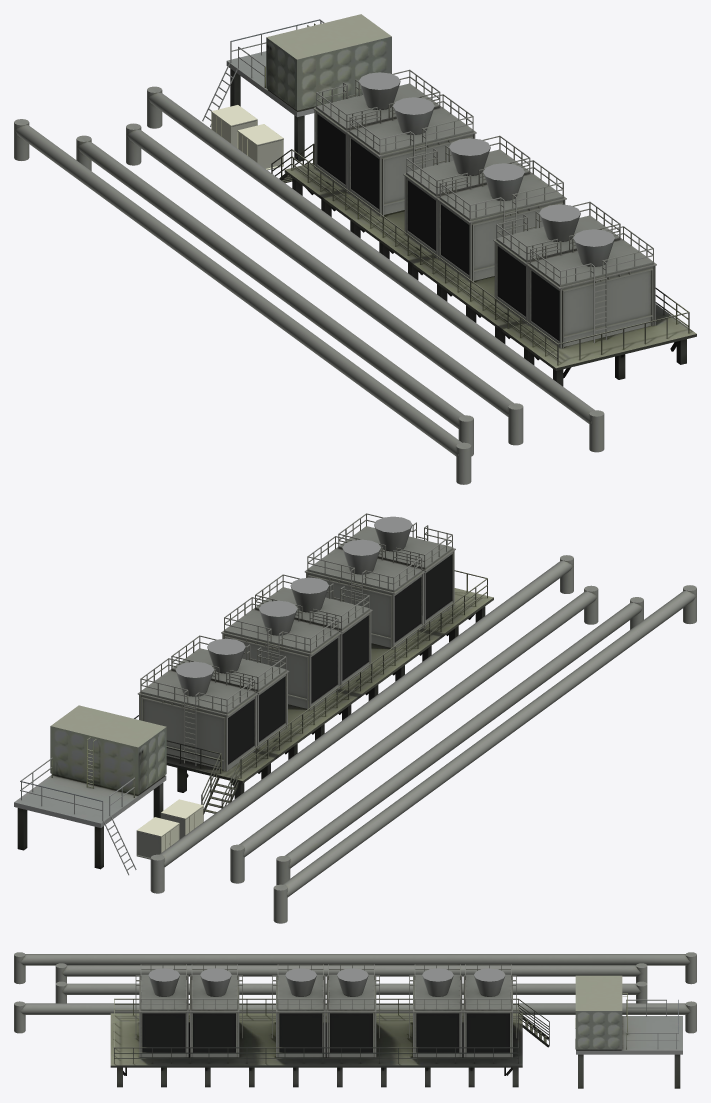
File: lengshuita.obj
3 renders of one model, top to bottom at view 1: azimuth 30°, elevation 25°; view 2: azimuth 150°, elevation 25°; view 3: azimuth 270°, elevation 25°, orthographic. The views are drawn at different scales.
Parts seen in each view (by area): view 1: 78, 77, 79, 76, 73, 74, 75; view 2: 78, 76, 73, 77, 79, 75, 74; view 3: 78, 79, 73, 77, 76.
Boxes of the visible parts, bbox=[...] form: 78: bbox=[14, 14, 604, 484]; 77: bbox=[493, 201, 656, 348]; 79: bbox=[230, 68, 696, 386]; 76: bbox=[313, 69, 476, 216]; 73: bbox=[403, 135, 566, 282]; 74: bbox=[237, 124, 283, 170]; 75: bbox=[211, 105, 257, 147]; 78: bbox=[14, 555, 696, 923]; 76: bbox=[137, 635, 289, 771]; 73: bbox=[221, 574, 372, 710]; 77: bbox=[304, 513, 455, 649]; 79: bbox=[17, 570, 493, 869]; 75: bbox=[136, 817, 179, 859]; 74: bbox=[161, 799, 203, 839]; 78: bbox=[14, 952, 696, 1054]; 79: bbox=[110, 998, 680, 1088]; 73: bbox=[272, 964, 379, 1057]; 77: bbox=[135, 964, 242, 1057]; 76: bbox=[409, 964, 516, 1057].
Size of the model in its own units: 160 by 60.45 by 414.
